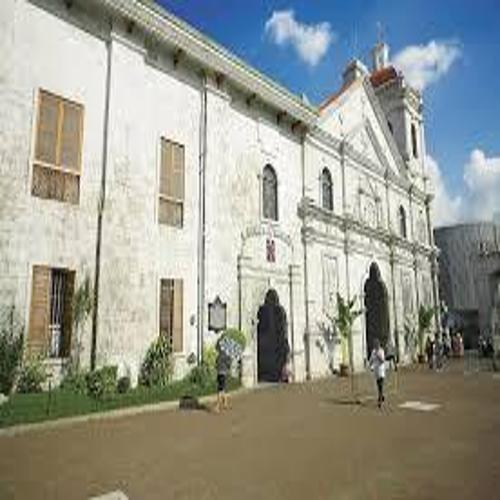Sto. Nino Basilica Church: (291, 16, 453, 373)
